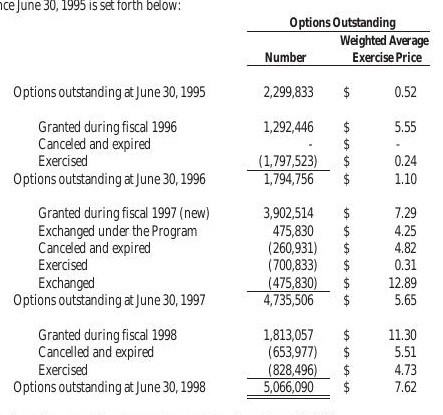table: (0, 0, 443, 415)
